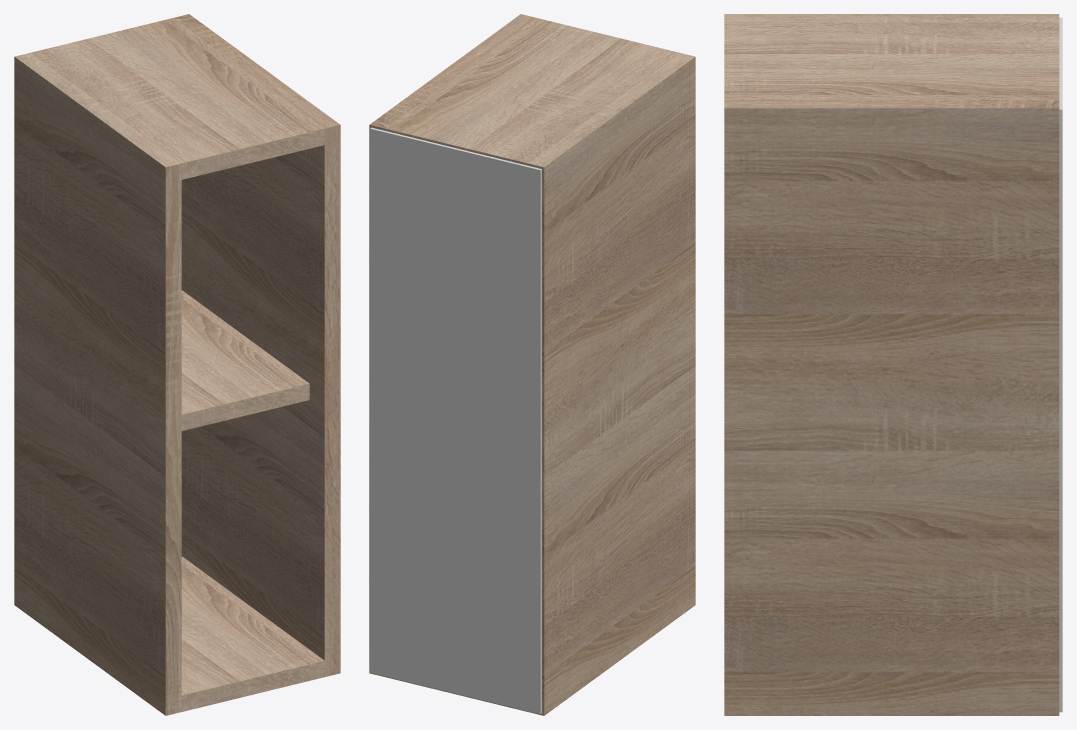
The model's file is s_fny_20.glb.
3 views of the same model, side by side, from view 1: azimuth 30°, elevation 25°; view 2: azimuth 150°, elevation 25°; view 3: azimuth 270°, elevation 25° (orthographic). The views are drawn at different scales.
Parts seen in each view (by area): view 1: s_fny_20_korpusz; view 2: s_fny_20_korpusz; view 3: s_fny_20_korpusz.
Boxes of the visible parts, x1,y1,x2,y2 form: s_fny_20_korpusz: [14, 14, 340, 715]; s_fny_20_korpusz: [369, 14, 695, 715]; s_fny_20_korpusz: [724, 14, 1062, 715].
Size of the model in its own units: 0.2 by 0.6 by 0.303.
2 materials, 1 textured.
